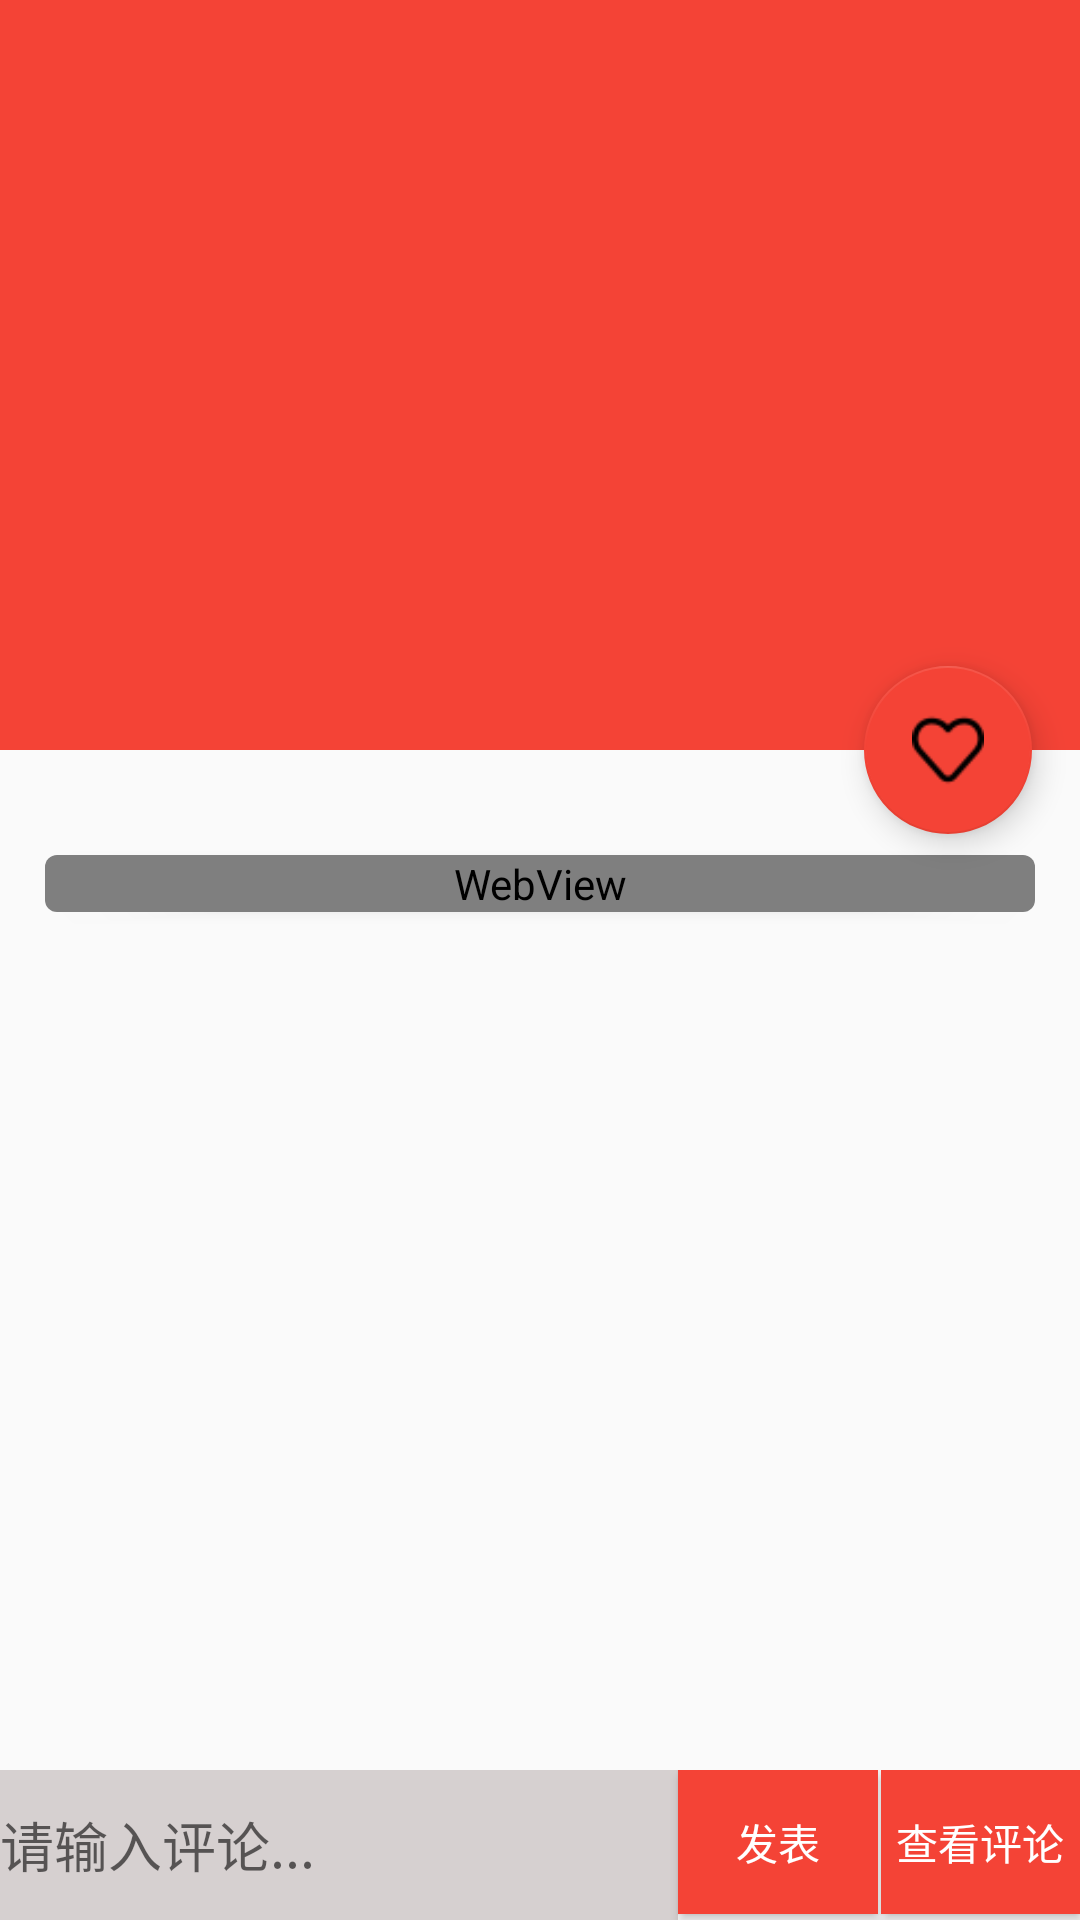

Icons on this 1080px x 1920px Android screen, each with the point to tap as (x,y):
collect: (948,750)
